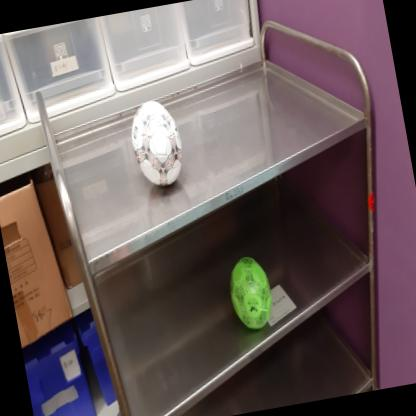ball: (125, 96, 188, 191), (225, 254, 277, 334)
